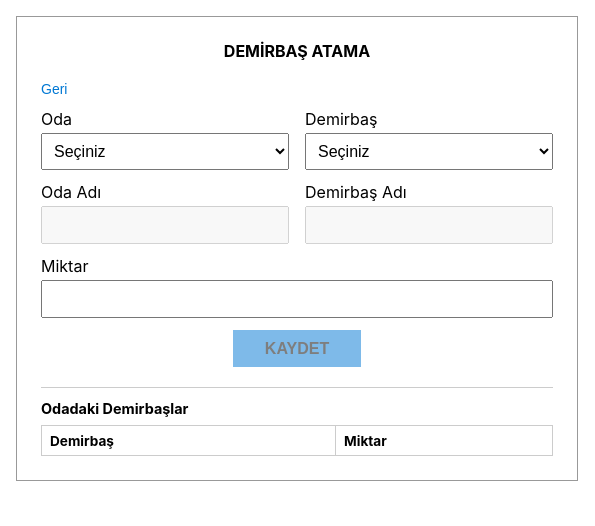
Test: AssetAssignment › shows the generic failure message when createAssetAssignment rejects with a non-ApiError
Select "Toplantı Odası" in the dropdown labelled "Oda" at coordinates (165, 152), box [41,133,289,170]
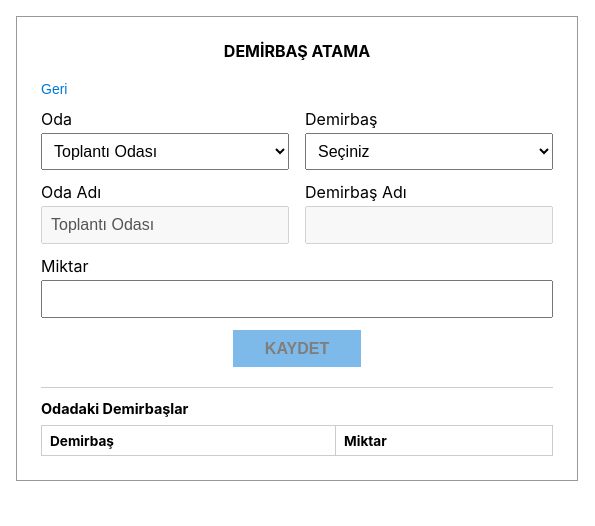
Select "Sandalye" in the dropdown labelled "Demirbaş" at coordinates (429, 152), box [305,133,553,170]
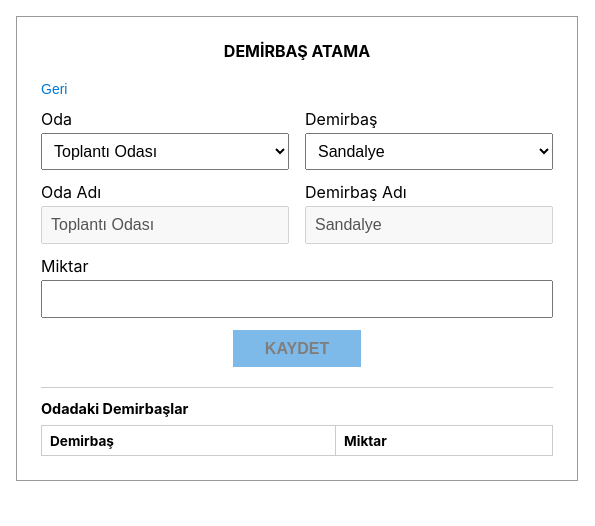
Type "3" into the field labelled "Miktar" at coordinates (297, 299), box [41,280,553,318]
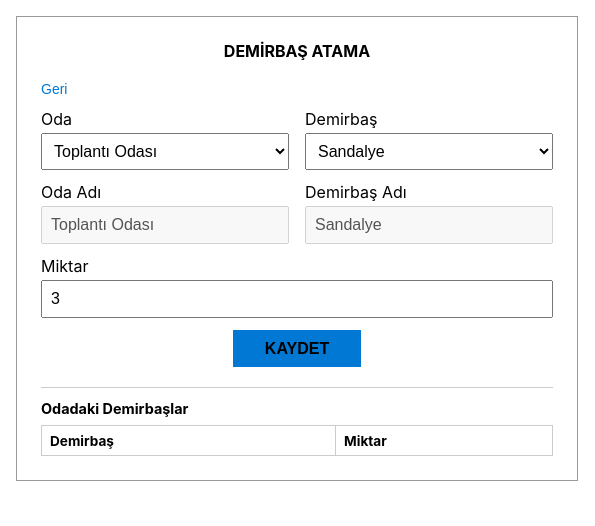
Click the button "KAYDET" at coordinates (297, 349), box [233,330,361,367]
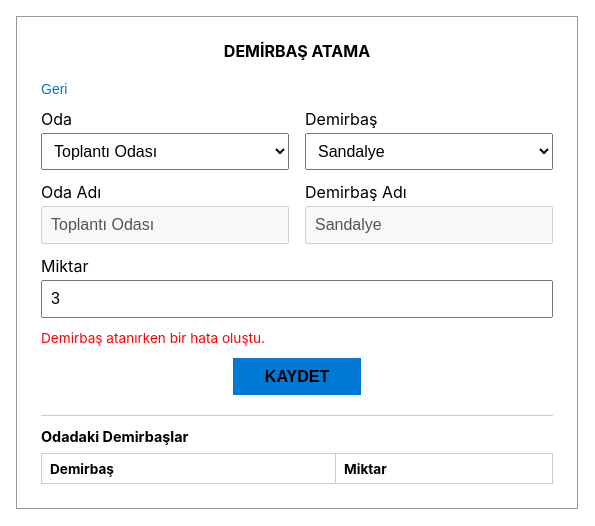
Check: the text "Demirbaş atanırken bir hata oluştu." is shown, box [41,330,265,346]
